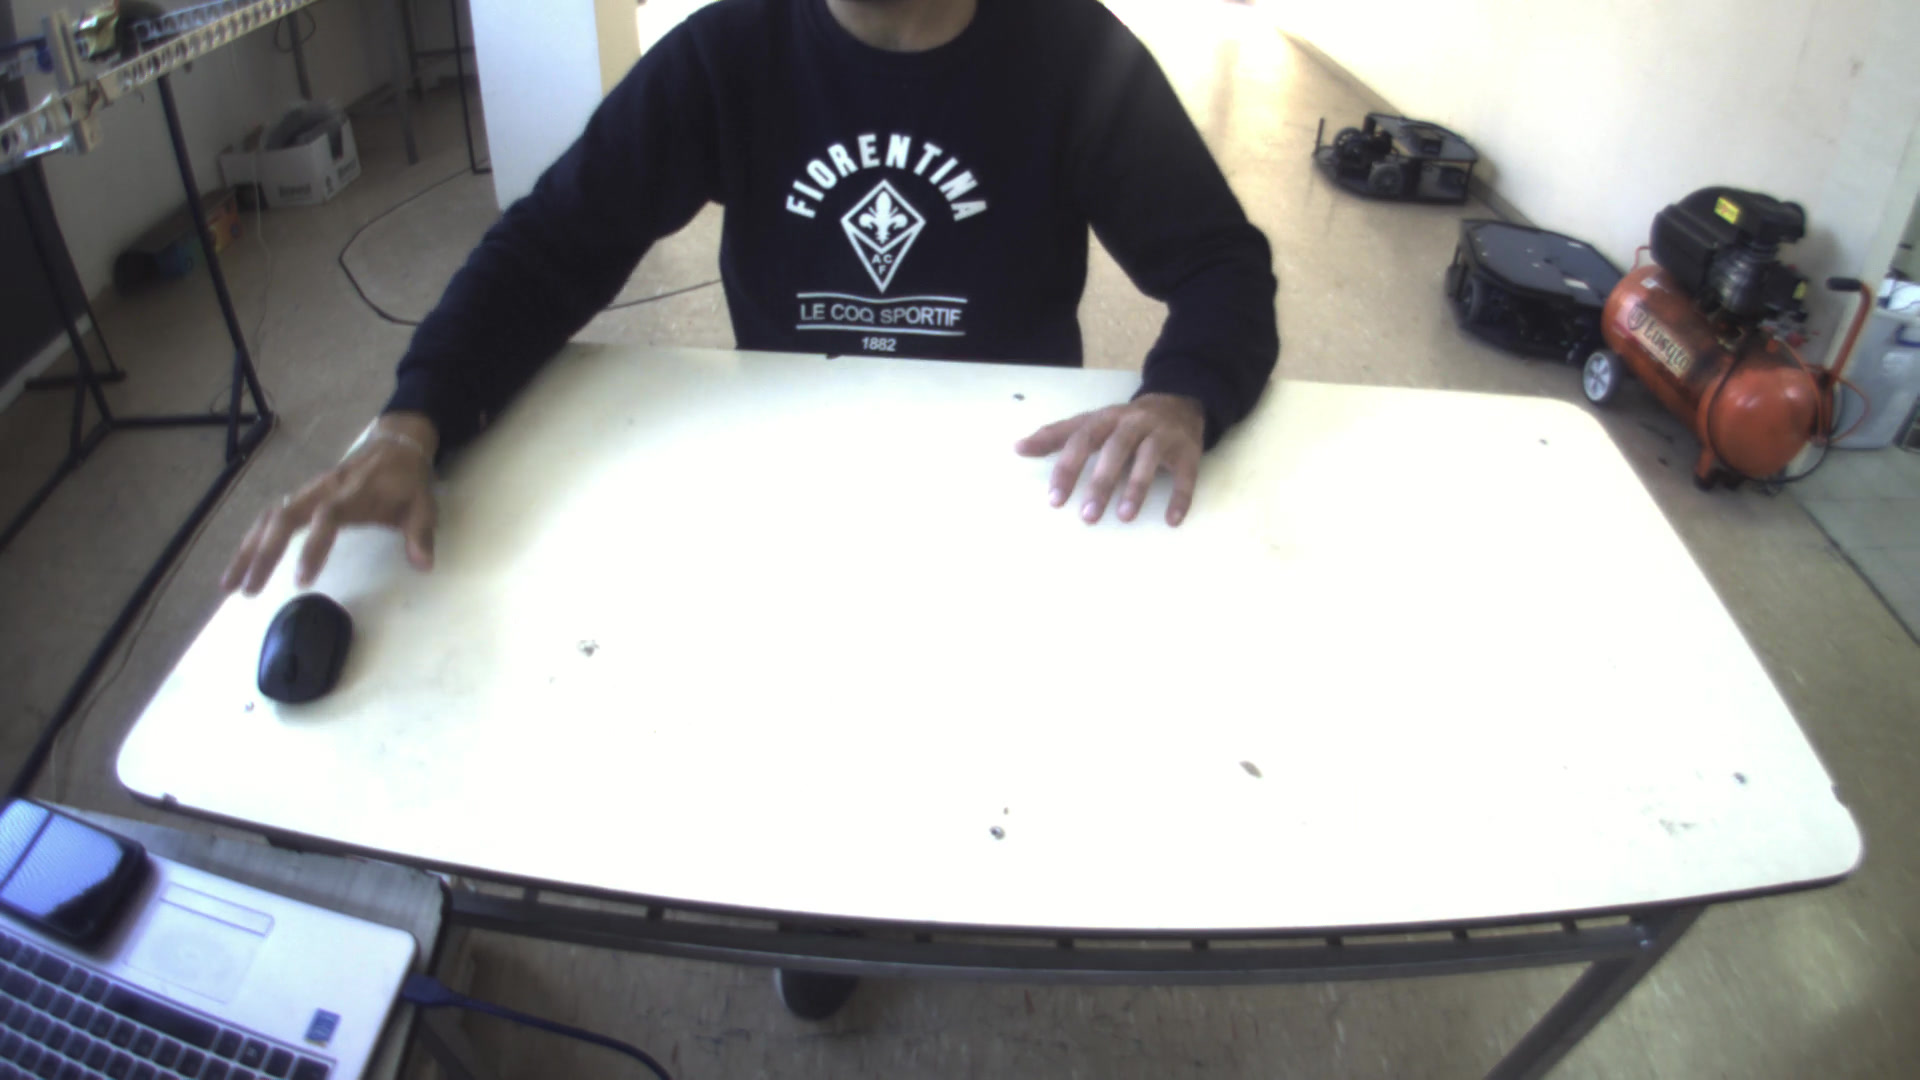hand: (214, 417, 450, 600), (1009, 363, 1218, 533)
